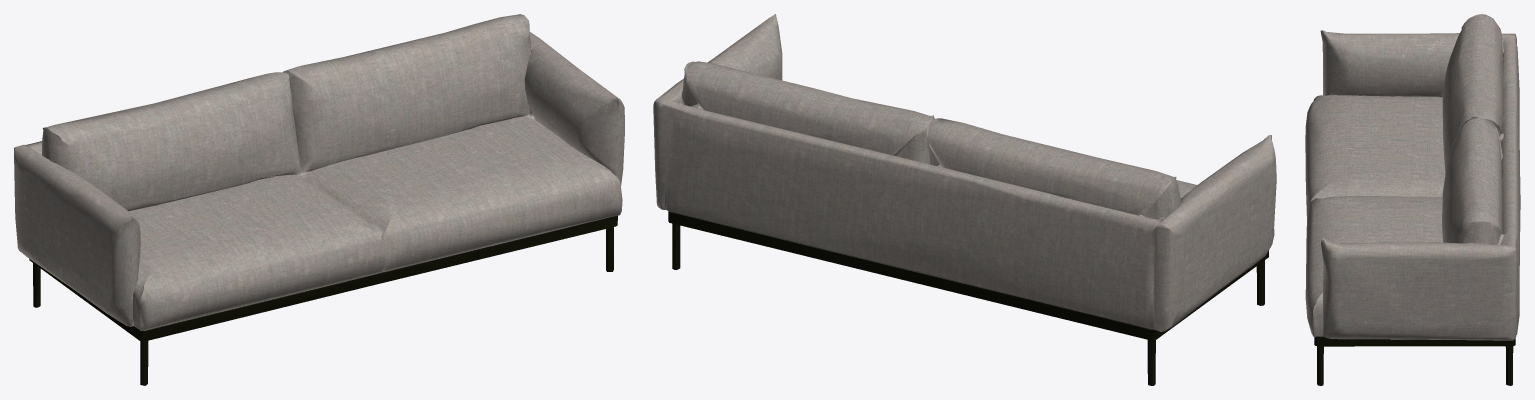
The model's file is applaryd_sofa_3_osobowa_30506239.glb.
3 views of the same model, side by side, from view 1: azimuth 30°, elevation 25°; view 2: azimuth 150°, elevation 25°; view 3: azimuth 270°, elevation 25° (orthographic). The views are drawn at different scales.
Visible parts, largest first — view 1: applaryd_sofa_3_osobowa_30506239; view 2: applaryd_sofa_3_osobowa_30506239; view 3: applaryd_sofa_3_osobowa_30506239.
Part boxes in pixels (x1,y1,x2,y2): applaryd_sofa_3_osobowa_30506239: (14,14,624,385); applaryd_sofa_3_osobowa_30506239: (653,14,1276,385); applaryd_sofa_3_osobowa_30506239: (1305,14,1520,385).
Bounding box in the file's own units: 2.32 × 0.8237 × 0.9542.
1 material, 1 textured.
